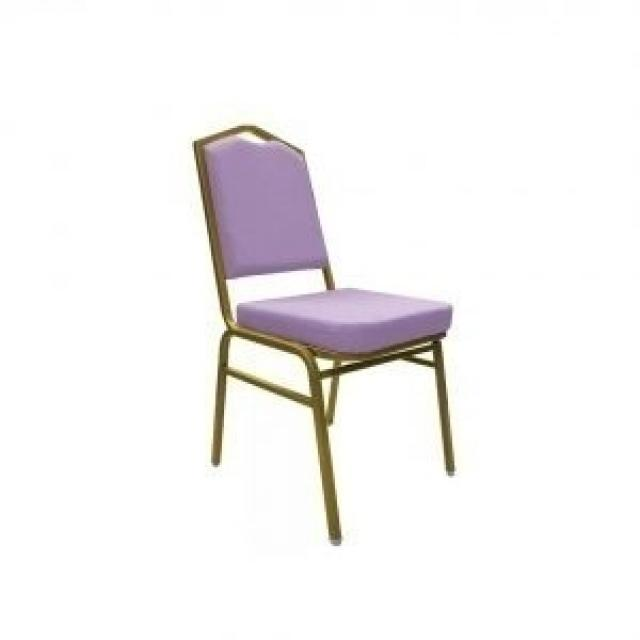Chair: (190, 122, 467, 548)
